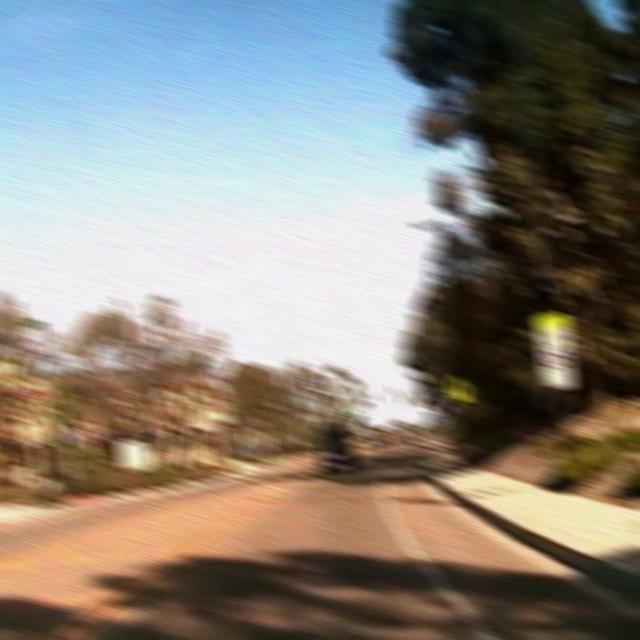speedLimit25: (534, 310, 575, 389)
